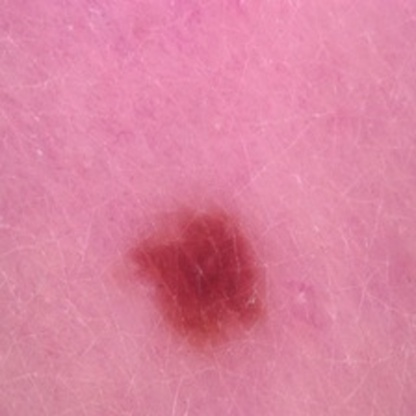benign: (144, 234, 244, 330)
